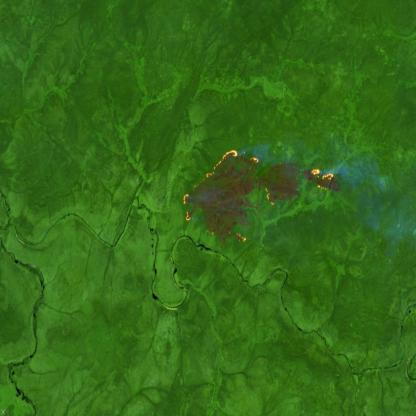fire: (177, 152, 335, 230)
